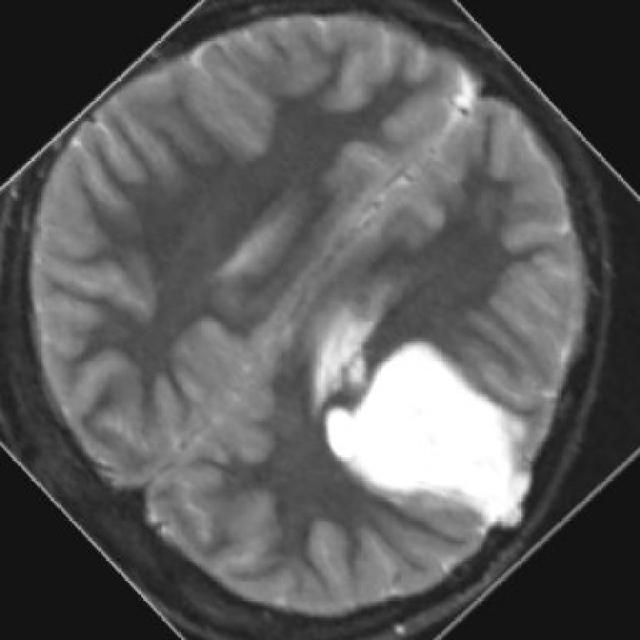Brain-Tumor: (323, 333, 542, 539)
